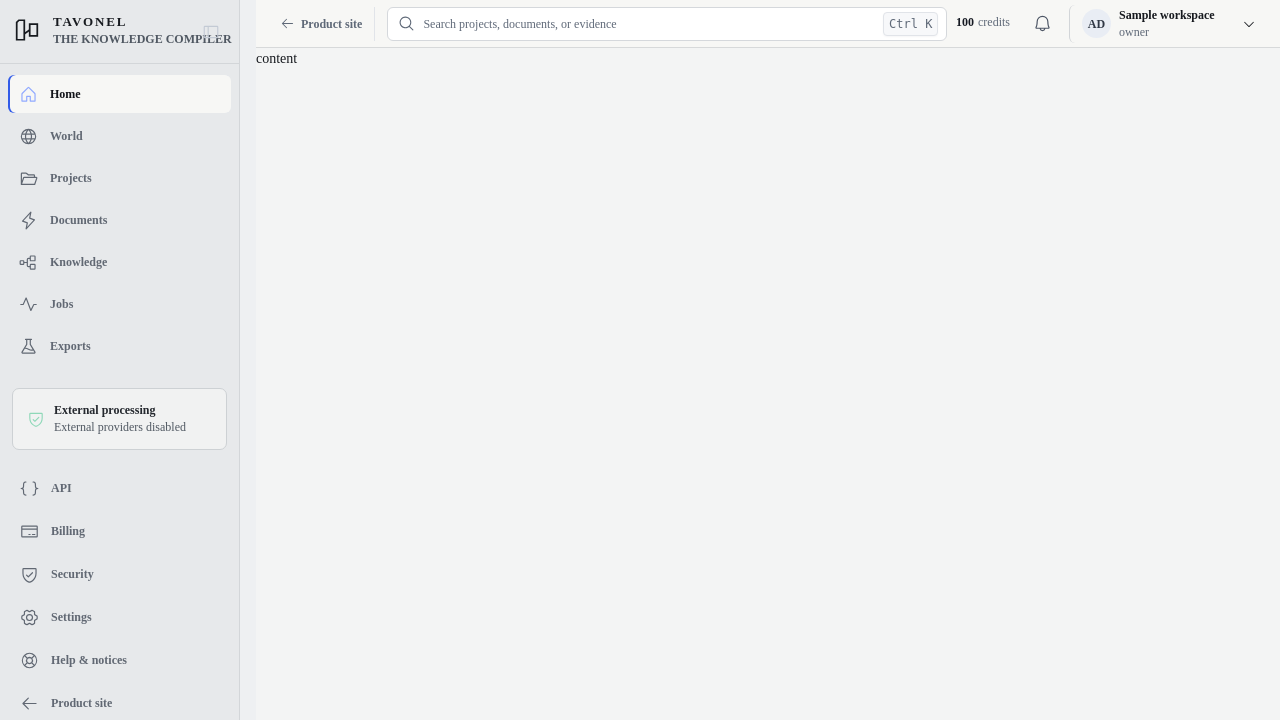
Scenario: AuthenticatedShell › opens the AccountMenu dropdown with Account, Billing and Sign out
This screenshot has width=1280, height=720.
Click the button "AD Sample workspace owner" at (1166, 24), box [1069,4,1262,42]
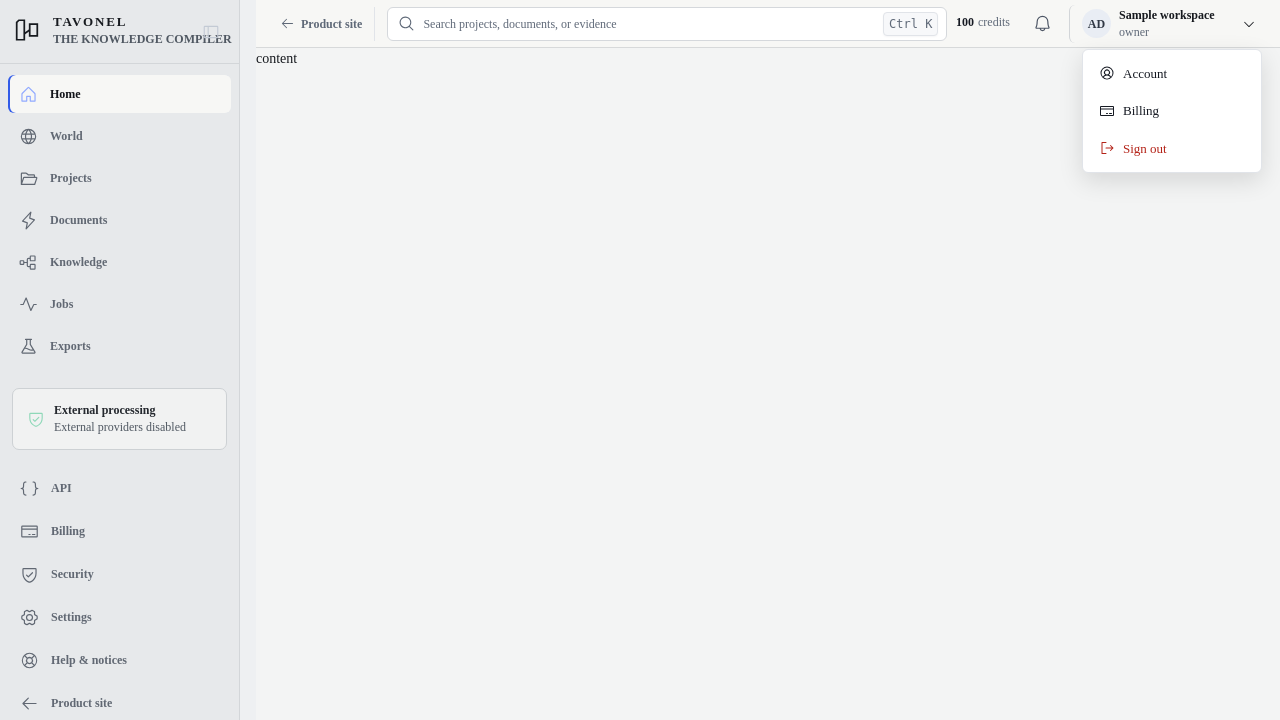
Now the menu item "Sign out" is shown, box [1089,130,1255,166]
